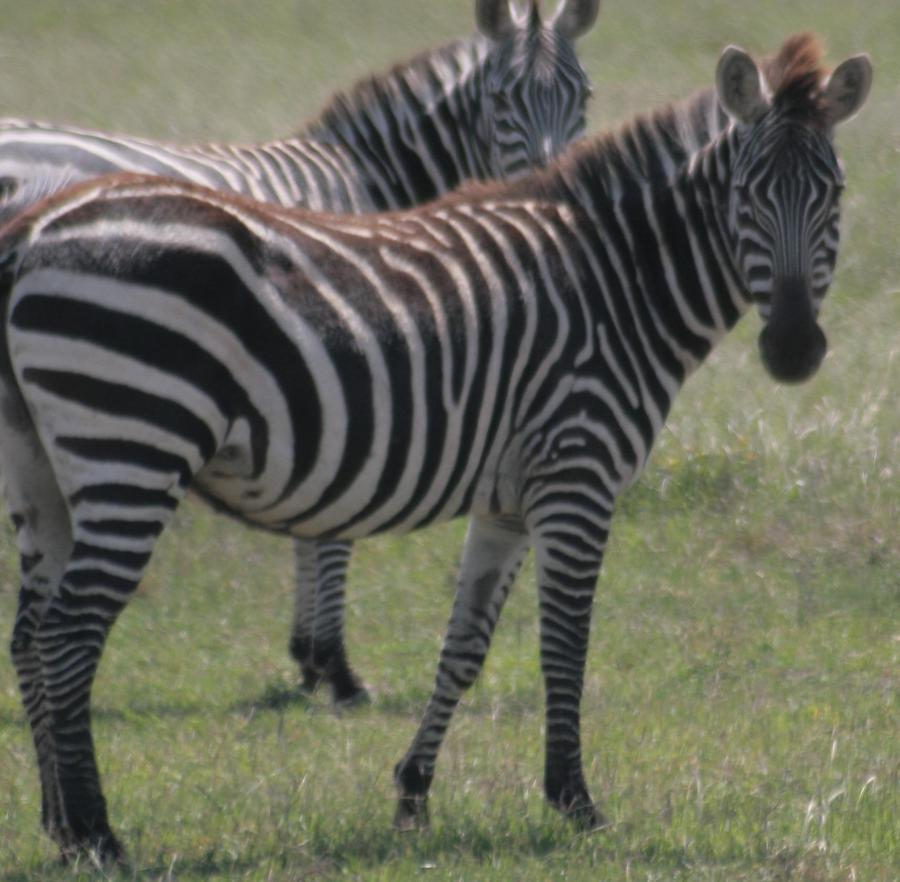zebra_plains: (27, 163, 682, 528)
